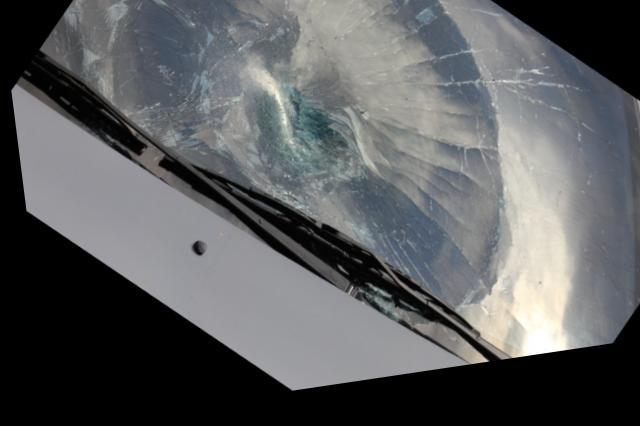glass shatter: (37, 0, 638, 373)
